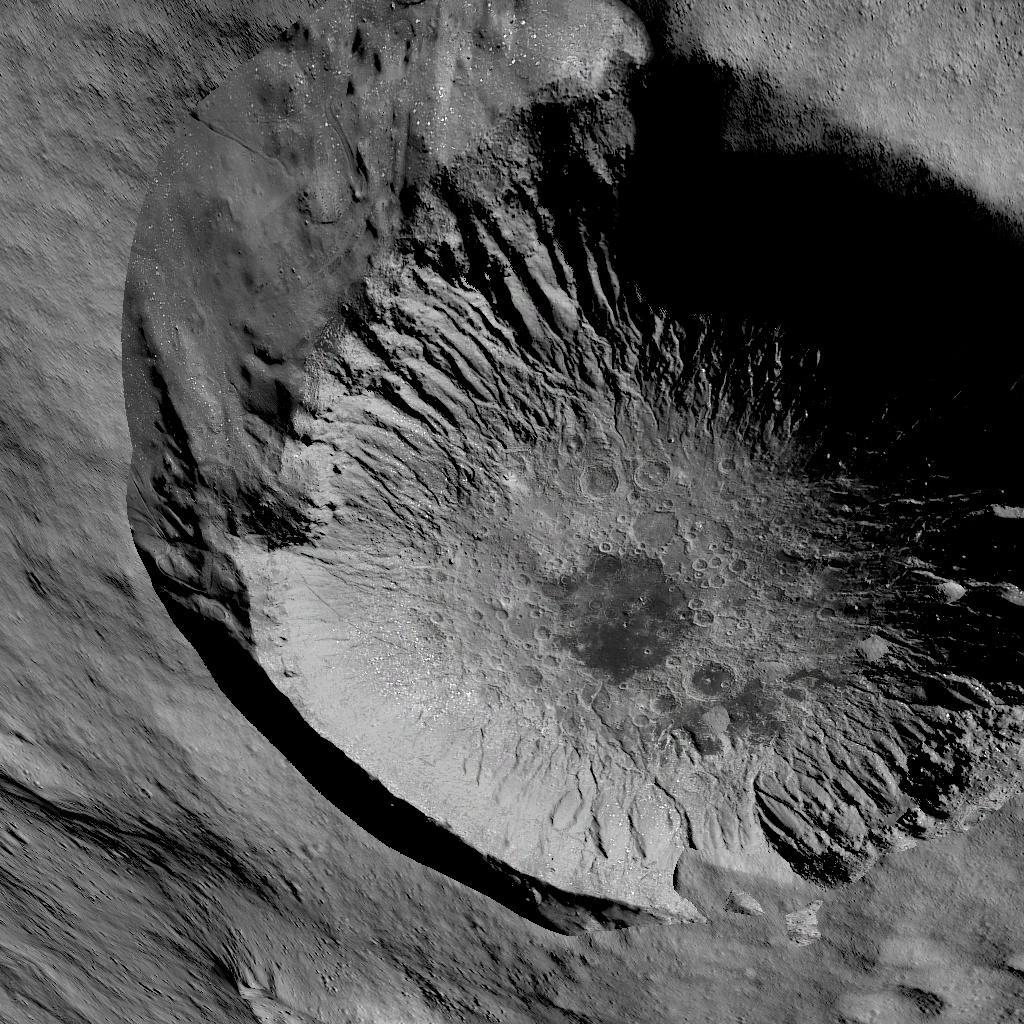Crater: (105, 0, 1024, 944)
